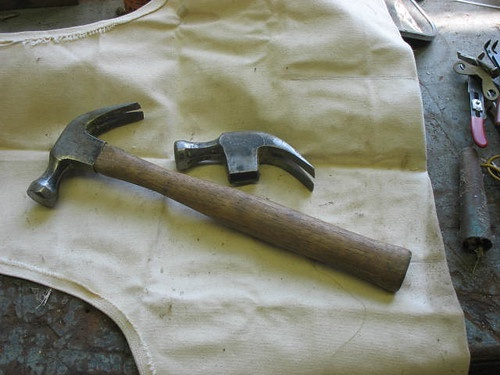hammer: (29, 100, 417, 301)
